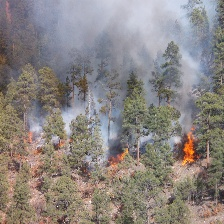fire: (19, 131, 73, 158), (182, 127, 200, 166), (107, 146, 128, 168)
smoke: (15, 1, 216, 132)
